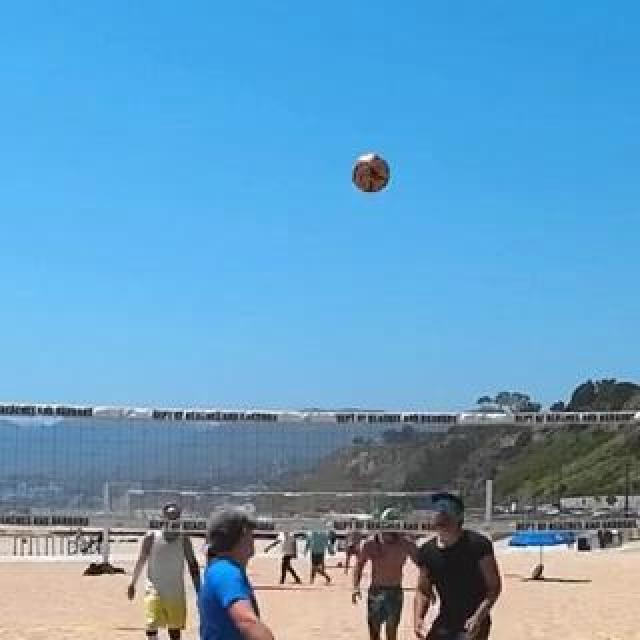volleyball: (353, 156, 391, 192)
